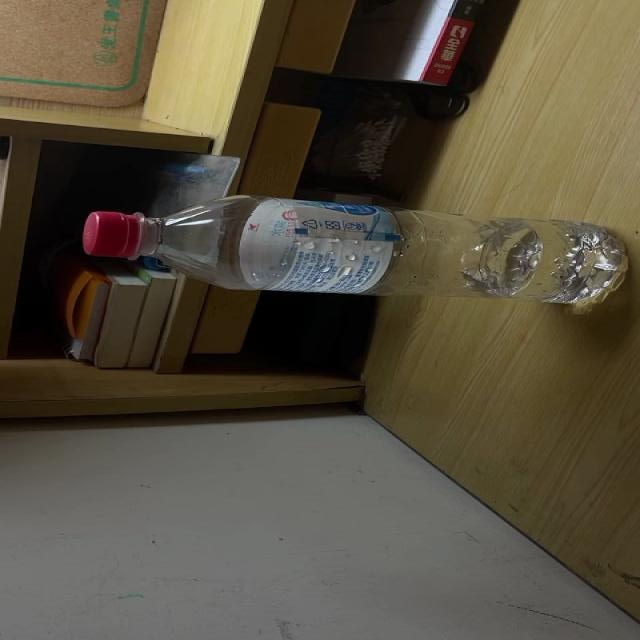Water: (83, 193, 632, 303)
